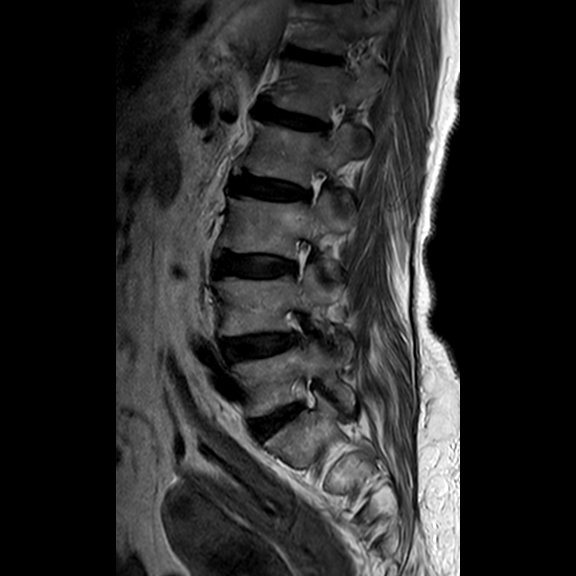LFS0: (279, 224, 321, 289), (294, 157, 330, 216)
